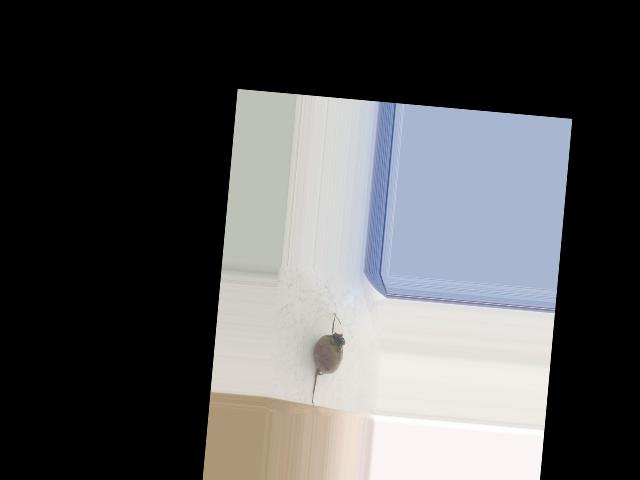beet: (308, 312, 346, 411)
